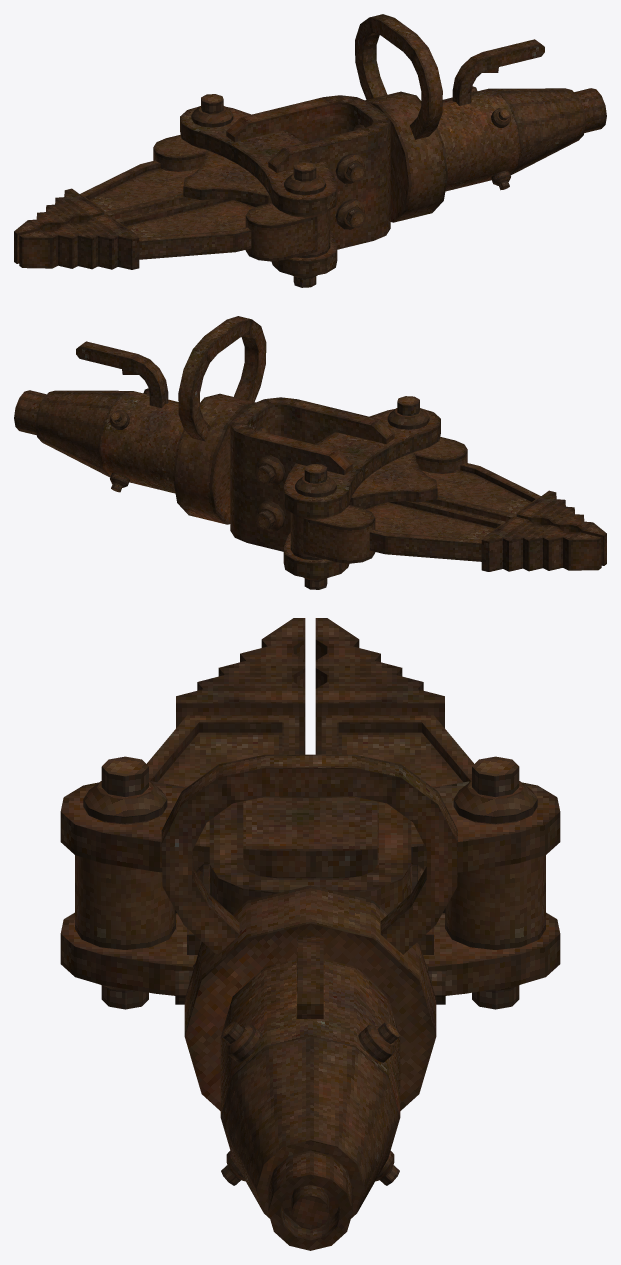
Rendered from hydraulic_spreader_etx_1.glb.
3 views of the same model, one above another, from view 1: azimuth 30°, elevation 25°; view 2: azimuth 150°, elevation 25°; view 3: azimuth 270°, elevation 25° (orthographic). The views are drawn at different scales.
Parts seen in each view (by area): view 1: hydraulic_spreader_etx_1, hydraulic_spreader_etx_1_arm_child; view 2: hydraulic_spreader_etx_1, hydraulic_spreader_etx_1_arm_child; view 3: hydraulic_spreader_etx_1, hydraulic_spreader_etx_1_arm_child.
Boxes of the visible parts, left/top/right/bottom form: hydraulic_spreader_etx_1: left=19, top=14, right=606, bottom=287; hydraulic_spreader_etx_1_arm_child: left=14, top=134, right=207, bottom=263; hydraulic_spreader_etx_1: left=14, top=316, right=606, bottom=589; hydraulic_spreader_etx_1_arm_child: left=290, top=501, right=601, bottom=571; hydraulic_spreader_etx_1: left=60, top=618, right=560, bottom=1250; hydraulic_spreader_etx_1_arm_child: left=315, top=618, right=545, bottom=949.
Size of the model in its own units: 1.19 by 0.3687 by 0.4452.
1 material, 1 textured.
